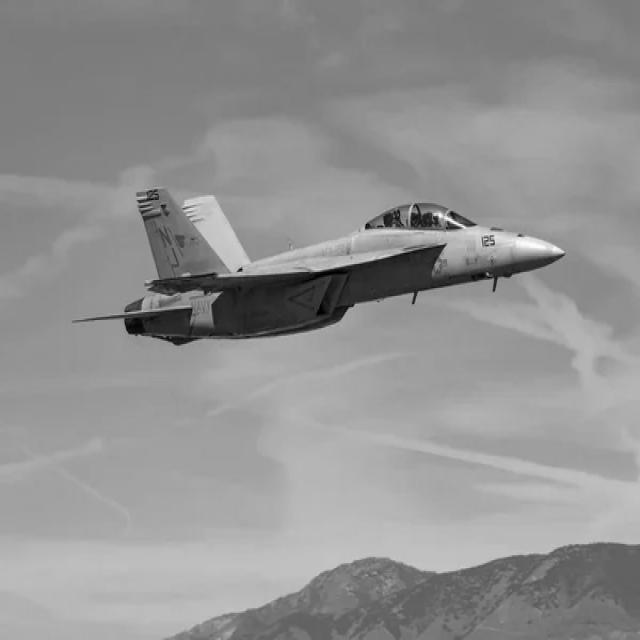Aircraft: (78, 160, 586, 341)
